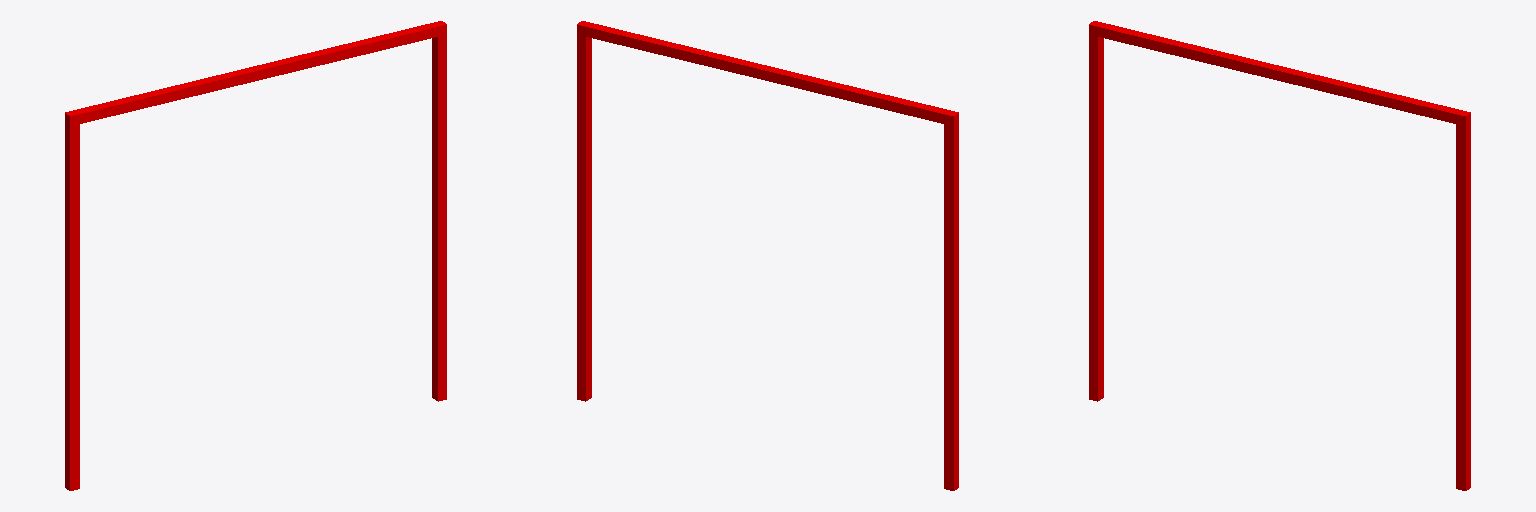
URDF robot description (gate.SLDPRT):
<robot
  name="gate.SLDPRT">
  <link
    name="gate.SLDPRT">
    <inertial>
      <origin
        xyz="0.90303 -1.4384 0.93518"
        rpy="0 0 0" />
      <mass
        value="19.44" />
      <inertia
        ixx="4.735584"
        ixy="7.90383383743101E-20"
        ixz="7.00239866091579E-16"
        iyy="13.633704"
        iyz="-2.89683413975256E-16"
        izz="8.903304" />
    </inertial>
    <visual>
      <origin
        xyz="0 0 0"
        rpy="1.5707963267949 0 0" />
      <geometry>
        <mesh
          filename="package://gate.SLDPRT/meshes/gate.SLDPRT.STL" />
      </geometry>

      <material
        name="gate.SLDPRT">
        <color
          rgba="1 0 0 1" />
      </material>

    </visual>
    <collision>
      <origin
        xyz="0 0 0"
        rpy="1.5707963267949 0 0" />
      <geometry>
        <mesh
          filename="package://gate.SLDPRT/meshes/gate.SLDPRT.STL" />
      </geometry>
    </collision>
  </link>
</robot>

--- What the picture shows (computed from the rendered views, not written in the file) ---
Views: 3 orthographic renders of the robot side by side, from view 1: azimuth 30°, elevation 25°; view 2: azimuth 150°, elevation 25°; view 3: azimuth 330°, elevation 25°.
Model gate.SLDPRT with 1 links and 0 joints (none), rooted at gate.SLDPRT, posed all joints at 0.
Links seen in each view (by area): view 1: gate.SLDPRT; view 2: gate.SLDPRT; view 3: gate.SLDPRT.
Link boxes in pixels (x1=…): gate.SLDPRT: x1=65, y1=21, x2=446, y2=490; gate.SLDPRT: x1=577, y1=21, x2=958, y2=490; gate.SLDPRT: x1=1089, y1=21, x2=1470, y2=490.
Size in the robot's own frame: 1.58 by 0.04 by 1.5 metres.
Meshes: 1 distinct files referenced, 1 mesh visuals loaded (1 binary STL).